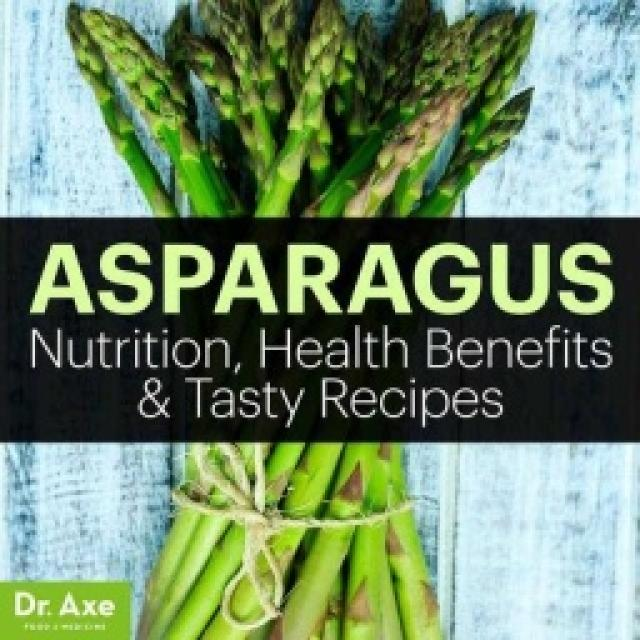Asparagus spear: (69, 23, 552, 219)
